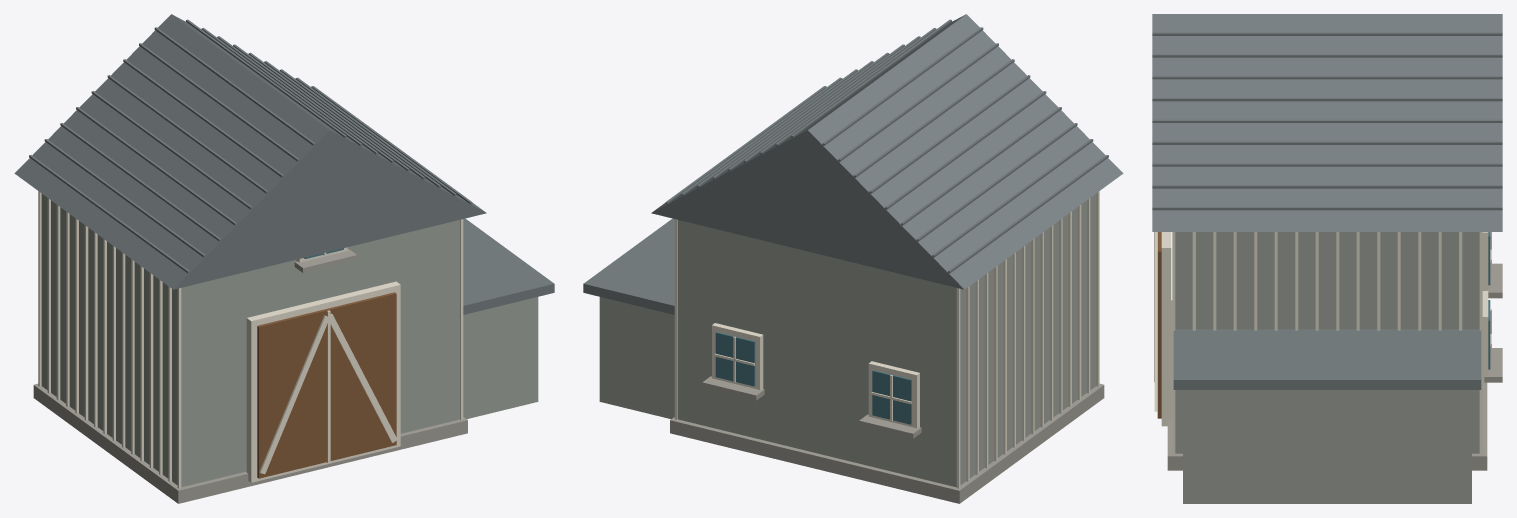
File: barn-3.glb
The picture shows the model from 3 angles, left to right: view 1: azimuth 30°, elevation 25°; view 2: azimuth 150°, elevation 25°; view 3: azimuth 270°, elevation 25°; orthographic projection. The views are drawn at different scales.
Visible parts, largest first — view 1: barn-3; view 2: barn-3; view 3: barn-3.
Boxes of the visible parts, left/top/right/bottom form: barn-3: left=14, top=14, right=554, bottom=503; barn-3: left=583, top=14, right=1123, bottom=503; barn-3: left=1152, top=14, right=1502, bottom=503.
Size of the model in its own units: 8.1 by 6.8 by 5.7.
